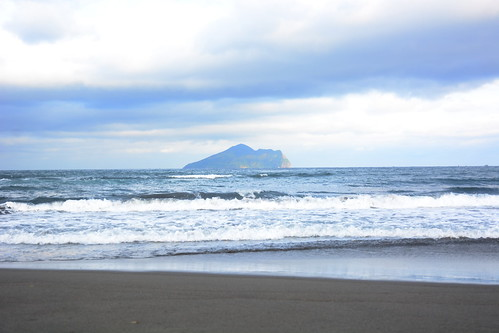turtleIsland: (180, 140, 295, 169)
